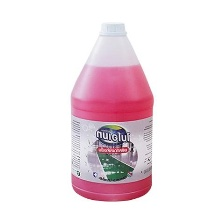cleaning_solution: (67, 20, 157, 204)
